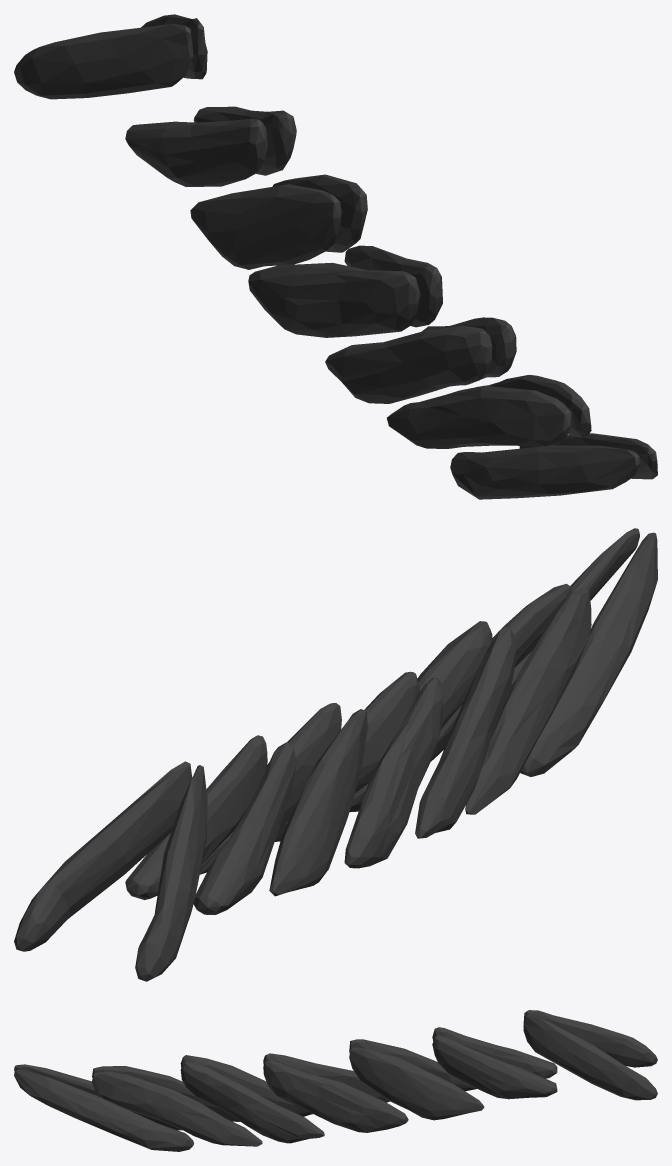
Rendered from m_multifidus_lumborum.glb.
The picture shows the model from 3 angles, top to bottom: view 1: azimuth 30°, elevation 25°; view 2: azimuth 150°, elevation 25°; view 3: azimuth 270°, elevation 25°; orthographic projection. The views are drawn at different scales.
Parts seen in each view (by area): view 1: m_multifidus_lumborum; view 2: m_multifidus_lumborum; view 3: m_multifidus_lumborum.
Part boxes in pixels (left/top/right/bottom): m_multifidus_lumborum: left=14, top=14, right=657, bottom=499; m_multifidus_lumborum: left=14, top=528, right=657, bottom=981; m_multifidus_lumborum: left=14, top=1010, right=657, bottom=1151.
Size of the model in its own units: 0.000863 by 0.00131 by 0.00595.
1 material, 1 textured.
